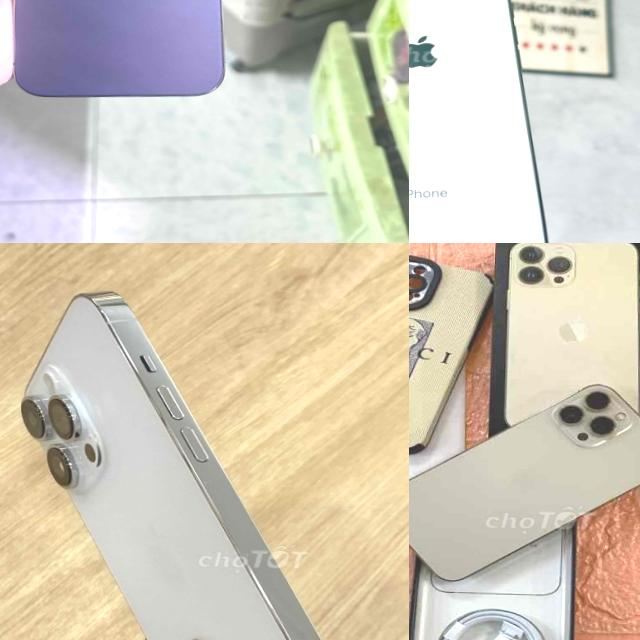gen_12_13: (409, 378, 640, 587)
gen_14: (9, 280, 389, 640), (0, 0, 240, 110)
gen_x_xs: (409, 0, 574, 243)
